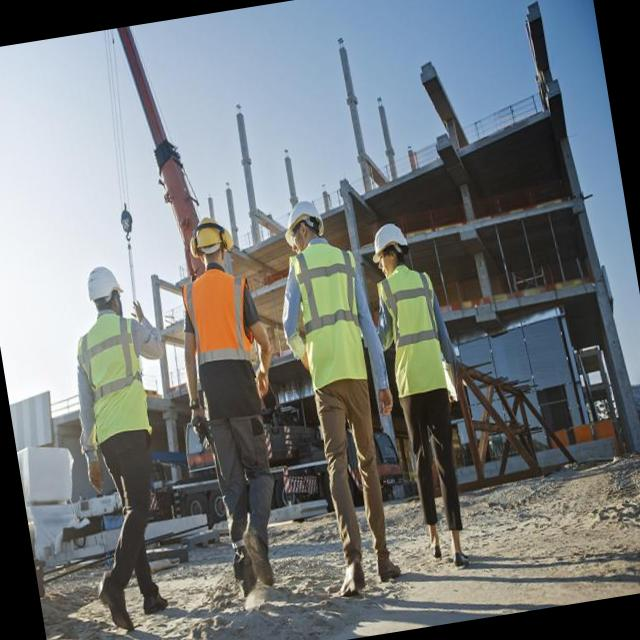Helmet: (272, 188, 332, 235), (82, 254, 124, 302), (365, 214, 410, 258)
Vest: (170, 272, 272, 424), (285, 236, 379, 396), (65, 314, 162, 449), (371, 262, 451, 399)
